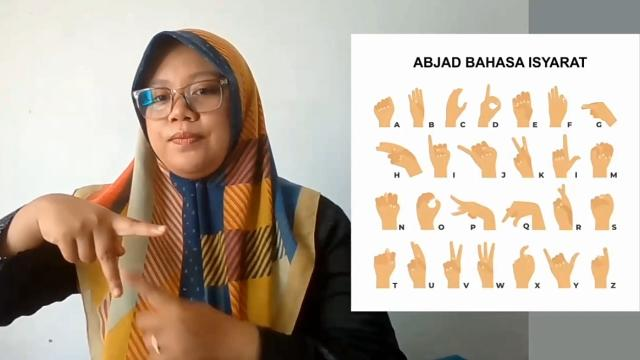P: (38, 192, 170, 300)
